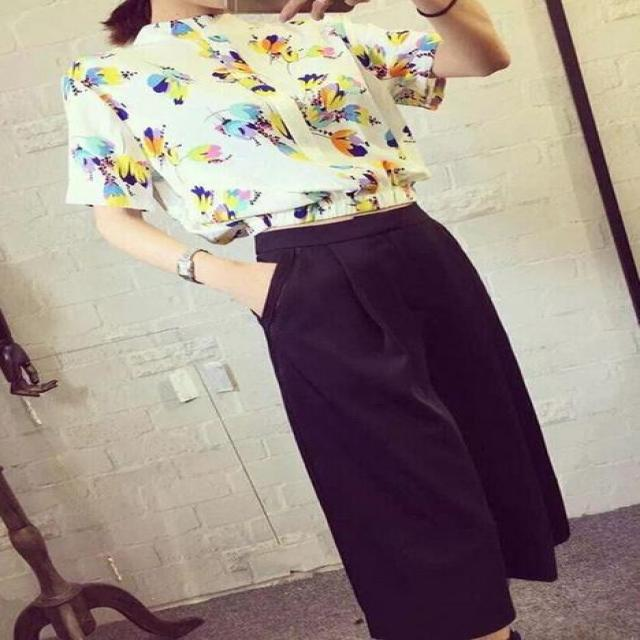short sleeve top: (66, 13, 443, 245)
trousers: (253, 202, 570, 636)
